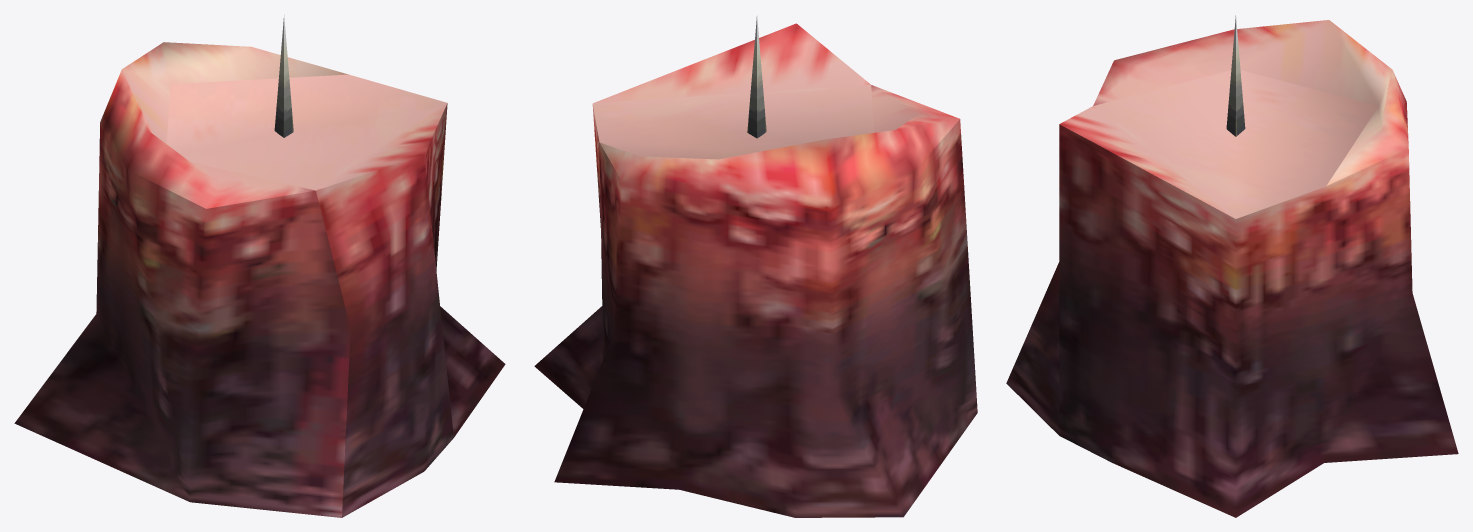
Rendered from candle_short01.fbx.
The picture shows the model from 3 angles, left to right: view 1: azimuth 30°, elevation 25°; view 2: azimuth 150°, elevation 25°; view 3: azimuth 270°, elevation 25°; orthographic projection. The views are drawn at different scales.
Parts seen in each view (by area): view 1: mesh_0, mesh_1; view 2: mesh_0, mesh_1; view 3: mesh_0, mesh_1.
Part boxes in pixels (box(x1,y1,x2,y2)): mesh_0: box(14, 42, 505, 517); mesh_1: box(274, 14, 293, 137); mesh_0: box(534, 23, 977, 517); mesh_1: box(747, 15, 766, 138); mesh_0: box(1006, 20, 1458, 517); mesh_1: box(1226, 15, 1245, 136).
Bounding box in the file's own units: 15.87 × 14.28 × 14.72.
Materials: 2 (2 with a texture image).
